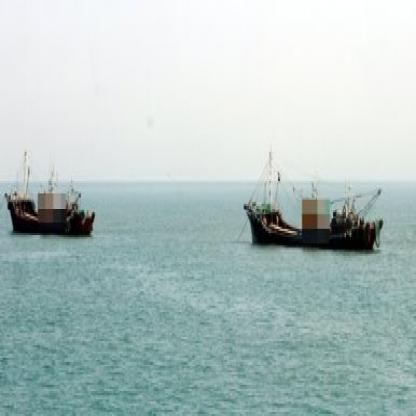fish-b: (232, 131, 398, 268), (1, 127, 102, 252)
